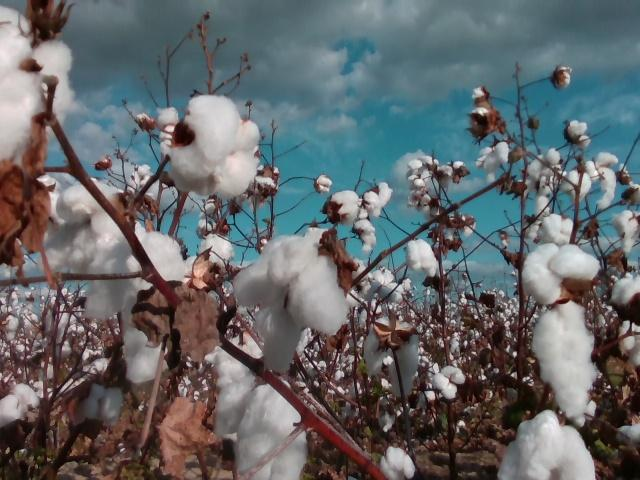cotton_ready: (234, 234, 346, 375), (524, 242, 601, 425), (44, 181, 132, 316), (0, 5, 72, 162), (171, 96, 259, 196), (236, 380, 315, 480), (499, 410, 596, 480), (204, 335, 260, 437), (127, 221, 190, 296), (363, 317, 419, 399), (123, 326, 172, 385), (77, 385, 132, 432), (0, 381, 40, 431), (590, 151, 621, 208), (371, 270, 411, 304), (379, 445, 416, 480), (346, 260, 370, 312), (535, 215, 575, 246), (406, 240, 438, 274), (434, 367, 466, 401), (201, 236, 235, 267), (531, 148, 559, 184), (617, 210, 640, 253), (619, 319, 640, 365), (478, 140, 510, 170), (611, 274, 640, 306), (331, 192, 362, 221), (564, 172, 589, 199)
